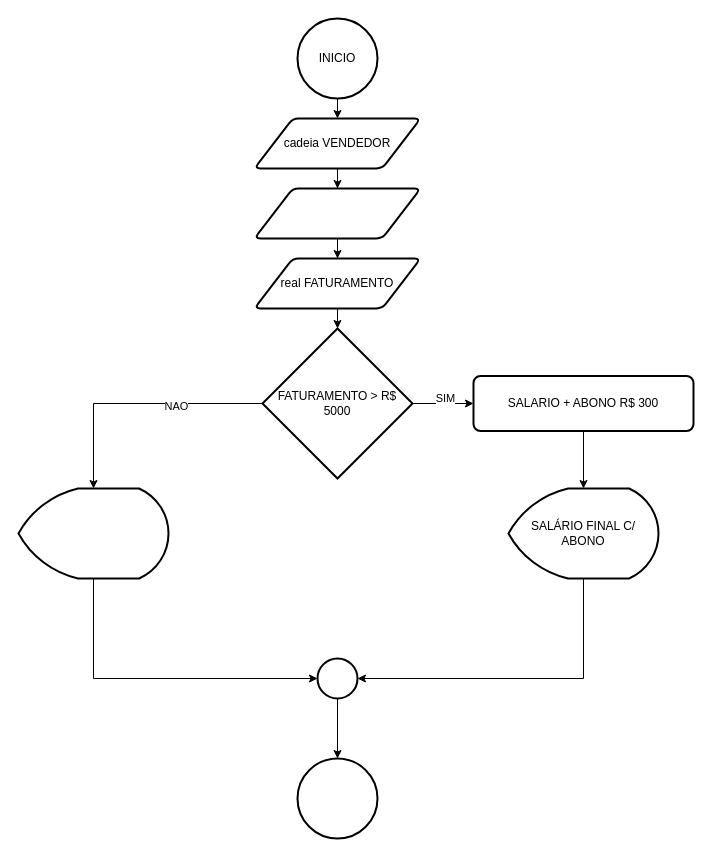
Image size: 711x856. Some labels were removed from this diagram. Each missing label, with the centre of its shape:
"FIM" belongs at point (337, 798).
"real SALARIO" belongs at point (337, 213).
"SALÁRIO FINAL S/ ABONO" belongs at point (93, 533).
